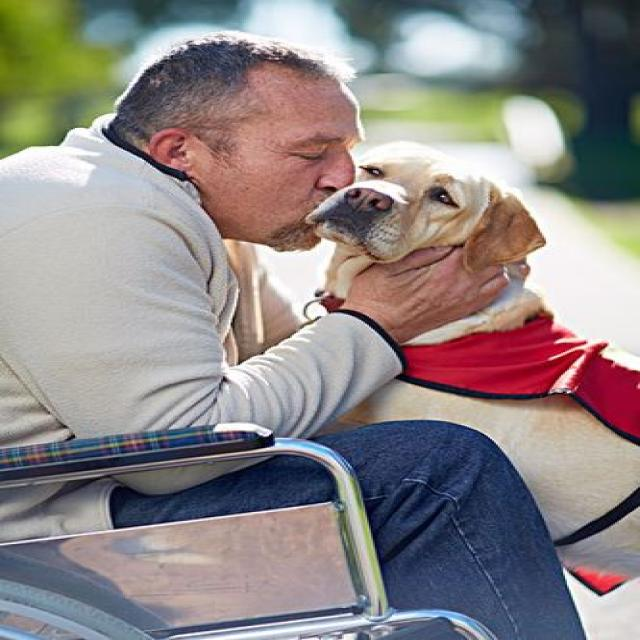wheelchairs: (0, 392, 523, 640)
